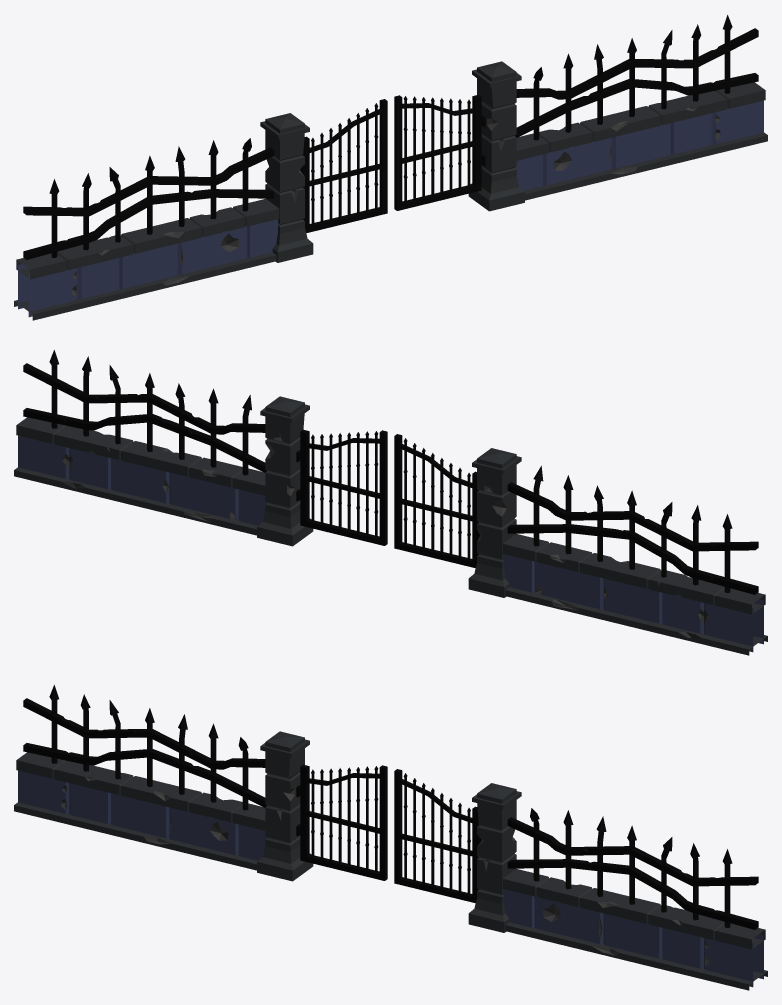
The model's file is GraveyardGateClose (1).fbx.
3 views of the same model, one above another, from view 1: azimuth 30°, elevation 25°; view 2: azimuth 150°, elevation 25°; view 3: azimuth 330°, elevation 25° (orthographic).
Visible parts, largest first — view 1: Wall, GateLeft, GateRight; view 2: Wall, GateLeft, GateRight; view 3: Wall, GateRight, GateLeft.
Part boxes in pixels (left/top/right/bottom): Wall: left=14, top=15, right=767, bottom=320; GateLeft: left=394, top=94, right=482, bottom=210; GateRight: left=301, top=99, right=387, bottom=233; Wall: left=14, top=350, right=767, bottom=655; GateLeft: left=299, top=429, right=387, bottom=545; GateRight: left=394, top=434, right=480, bottom=568; Wall: left=14, top=685, right=767, bottom=990; GateRight: left=299, top=764, right=387, bottom=880; GateLeft: left=394, top=769, right=480, bottom=903.
Bounding box in the file's own units: 847 × 146 × 41.28.
